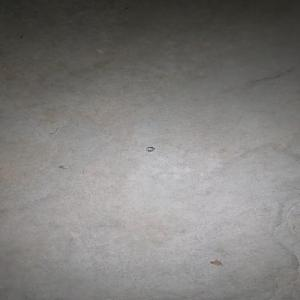Nut: (145, 146, 155, 152)
